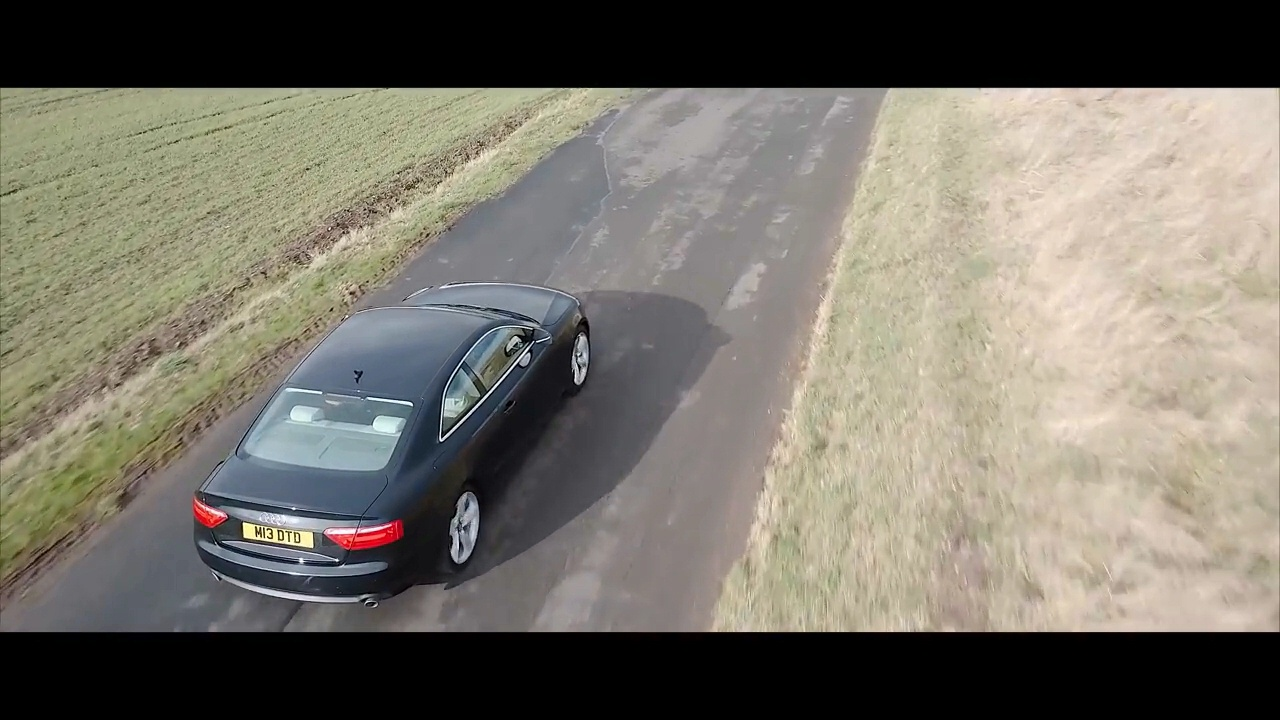araba: (177, 276, 593, 609)
